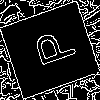P: (25, 25, 77, 72)
